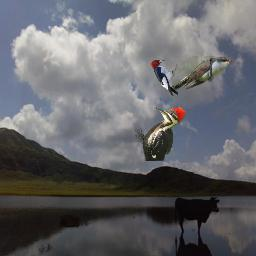Cuckoo: (165, 56, 232, 91)
Woodpecker: (135, 106, 185, 161), (150, 58, 180, 97)
